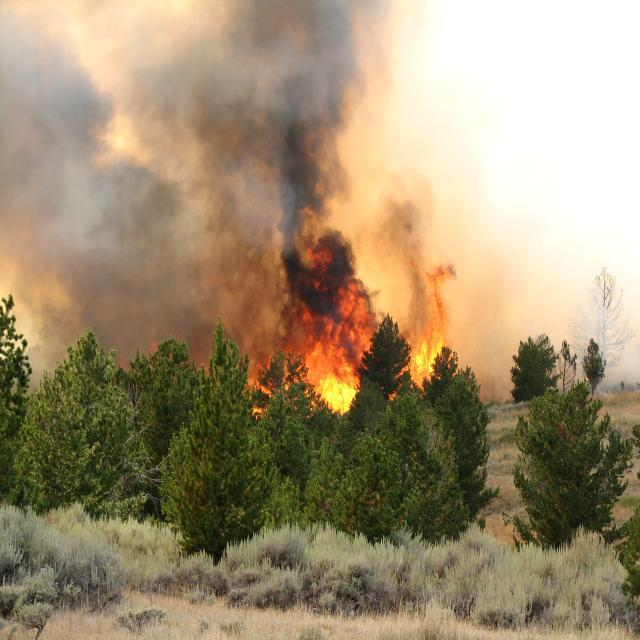Fire: (398, 252, 454, 398), (304, 352, 366, 422)
Smoke: (118, 0, 384, 318), (0, 0, 223, 379), (372, 156, 442, 318)
